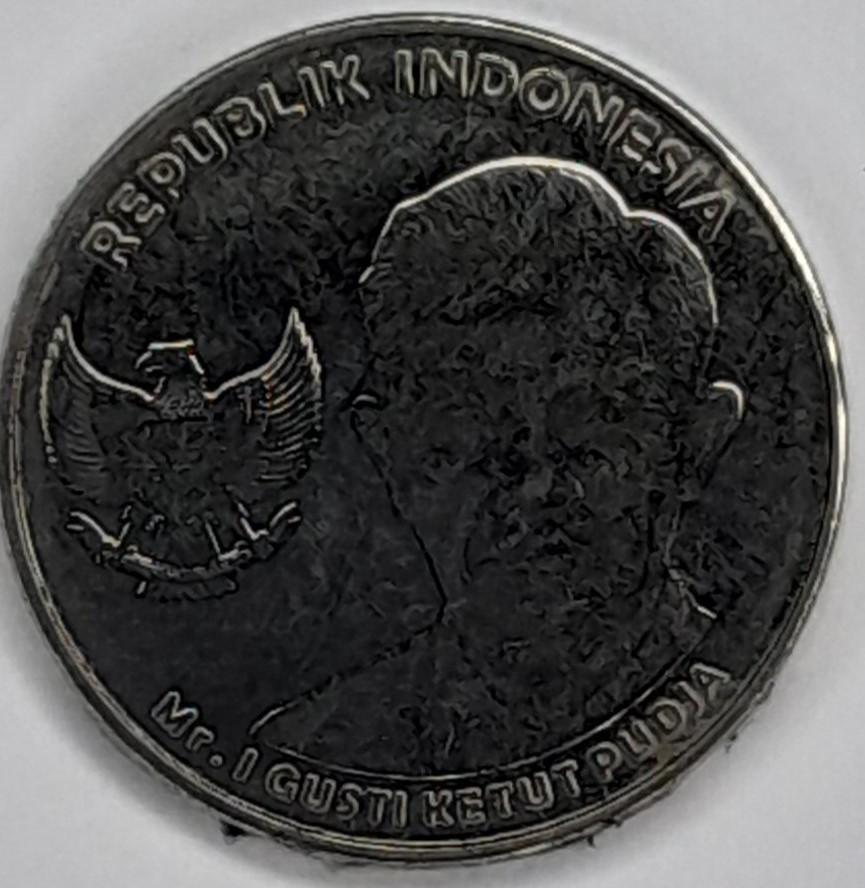coin_1000_e2016: (15, 18, 854, 888)
